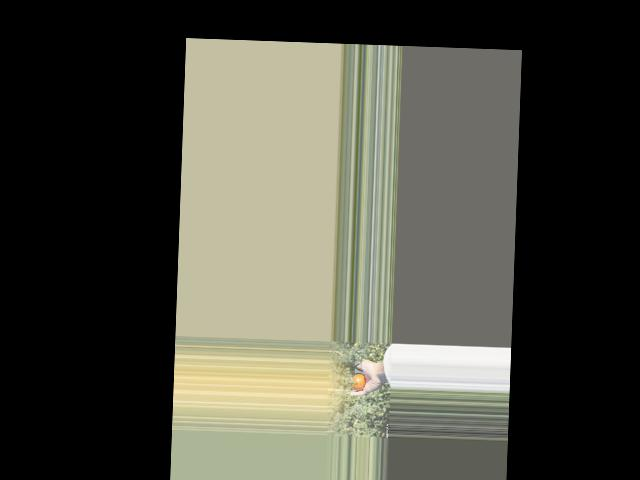tomato: (350, 374, 365, 391)
